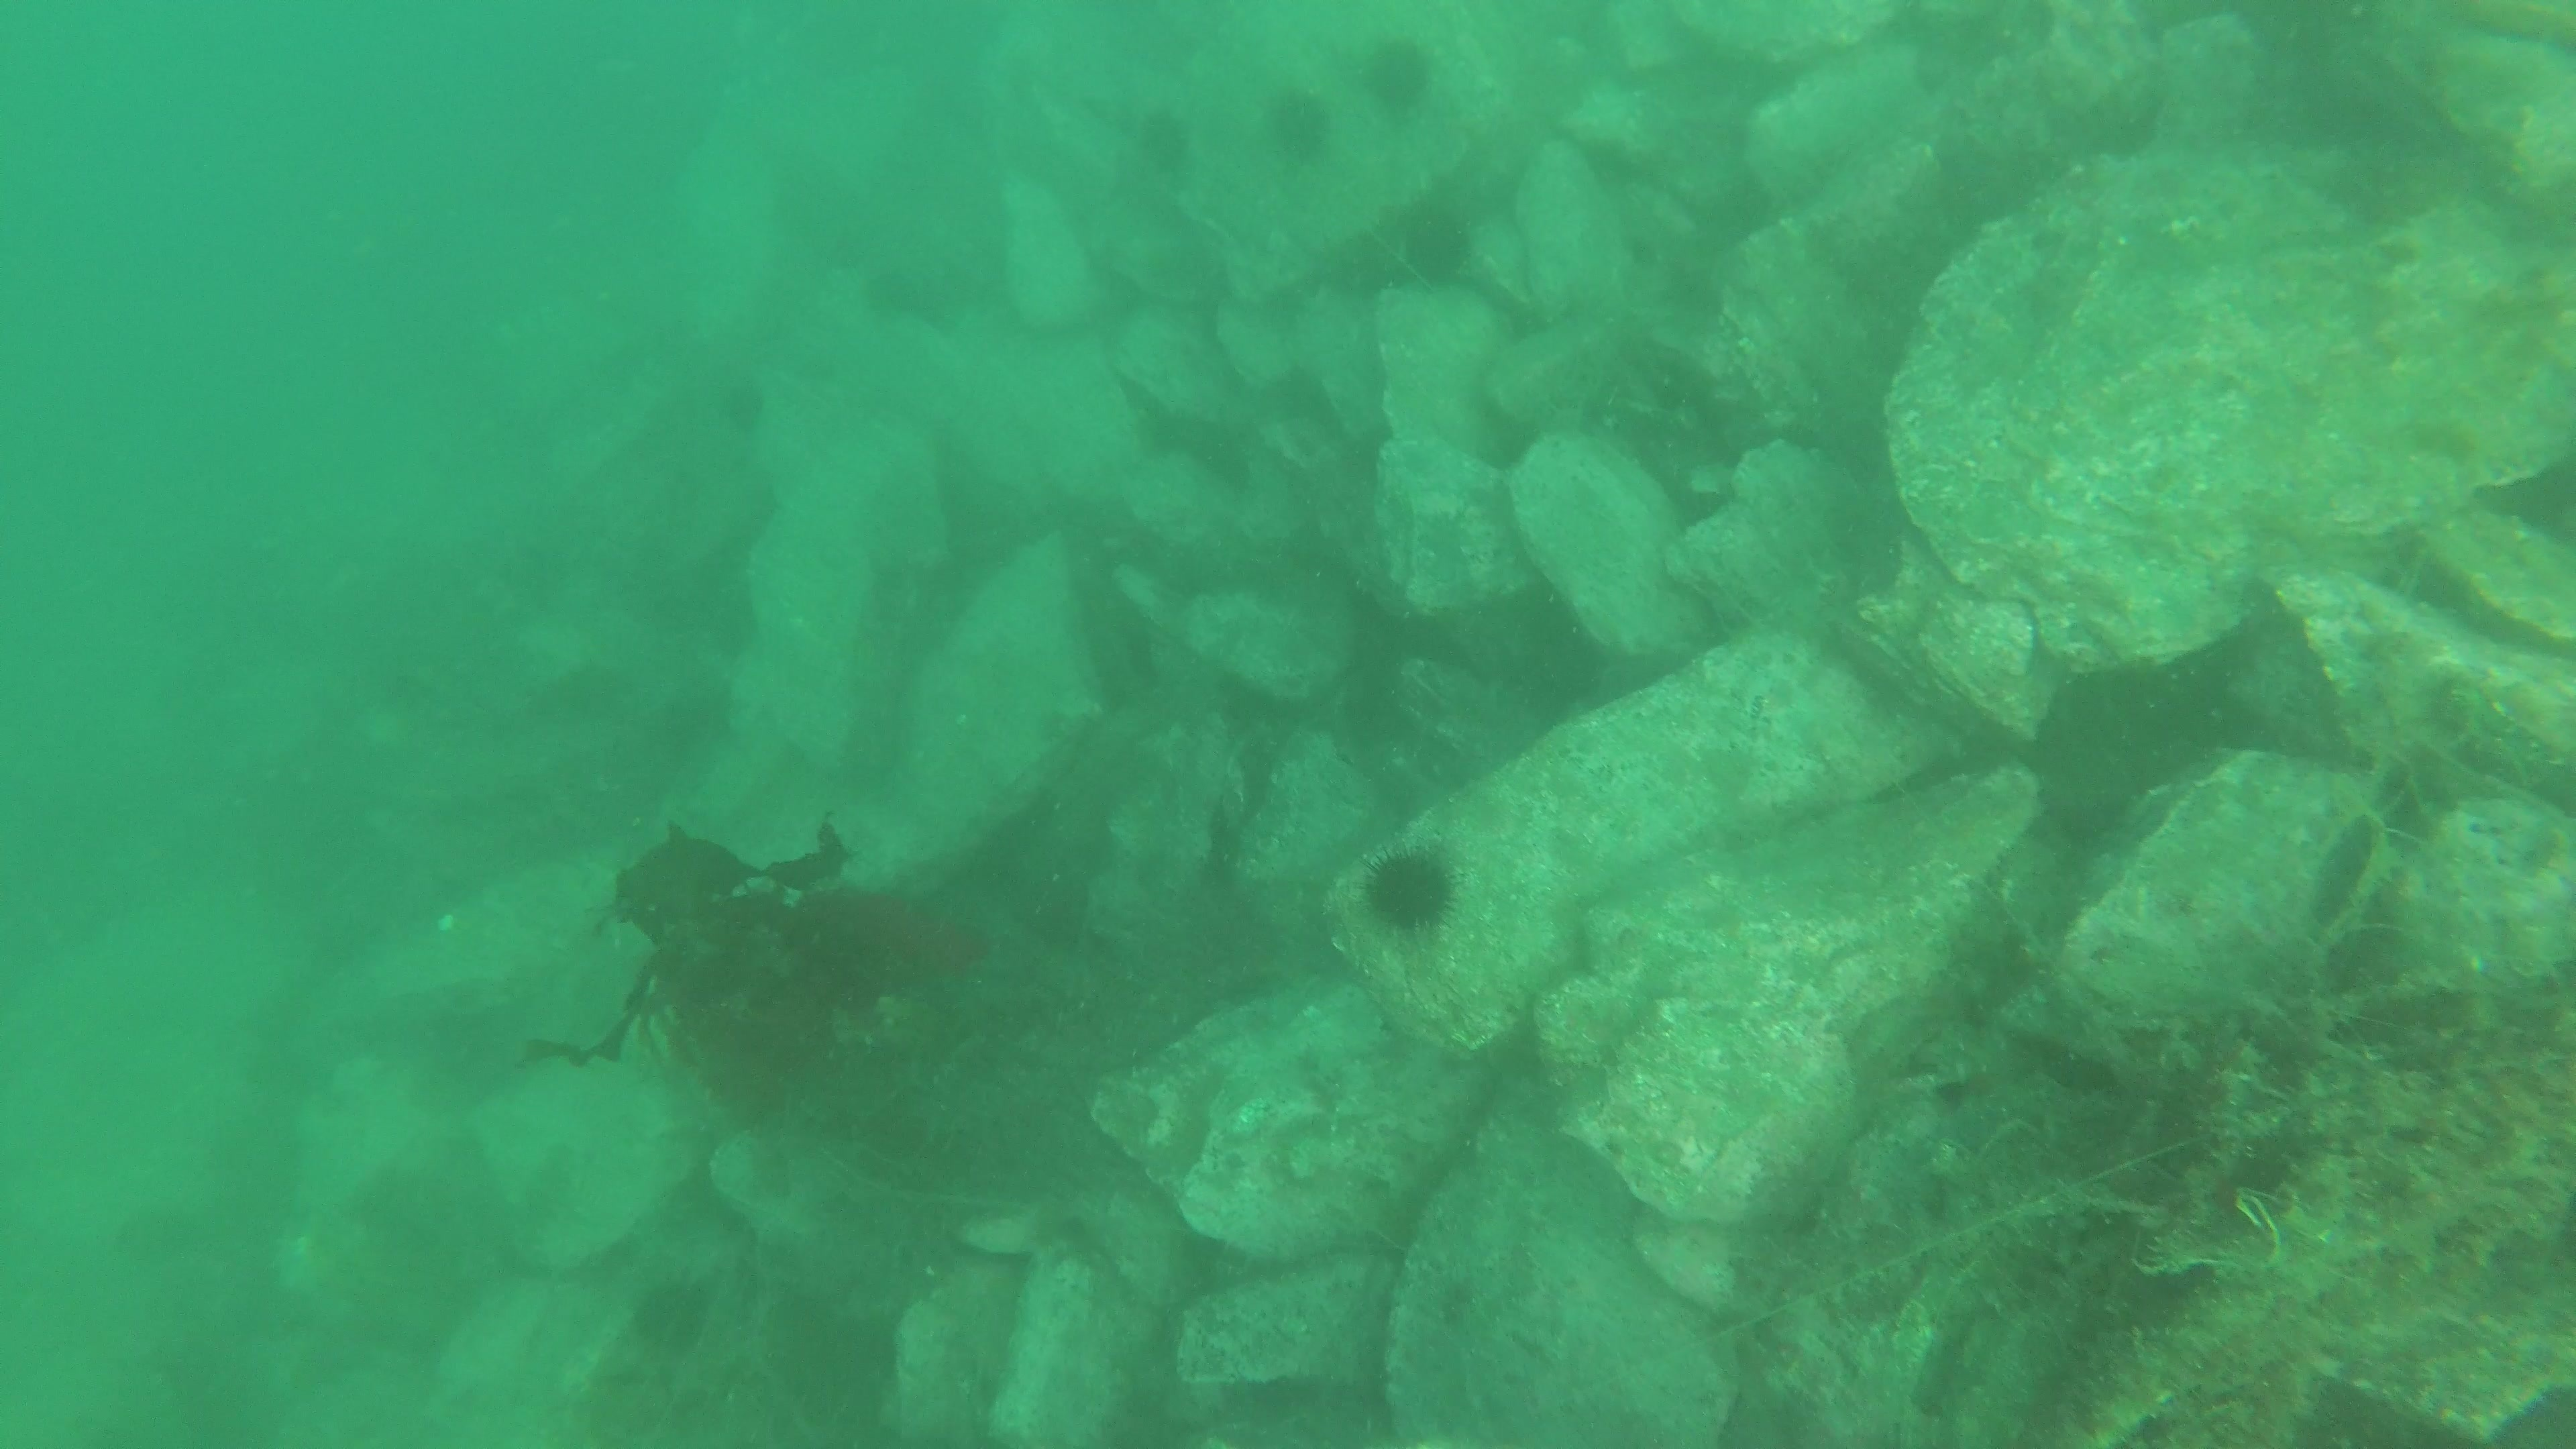echinus: (1355, 839, 1465, 939), (623, 1267, 718, 1362), (1391, 193, 1481, 292), (1353, 30, 1444, 122), (1256, 81, 1339, 168), (1123, 101, 1200, 184)
